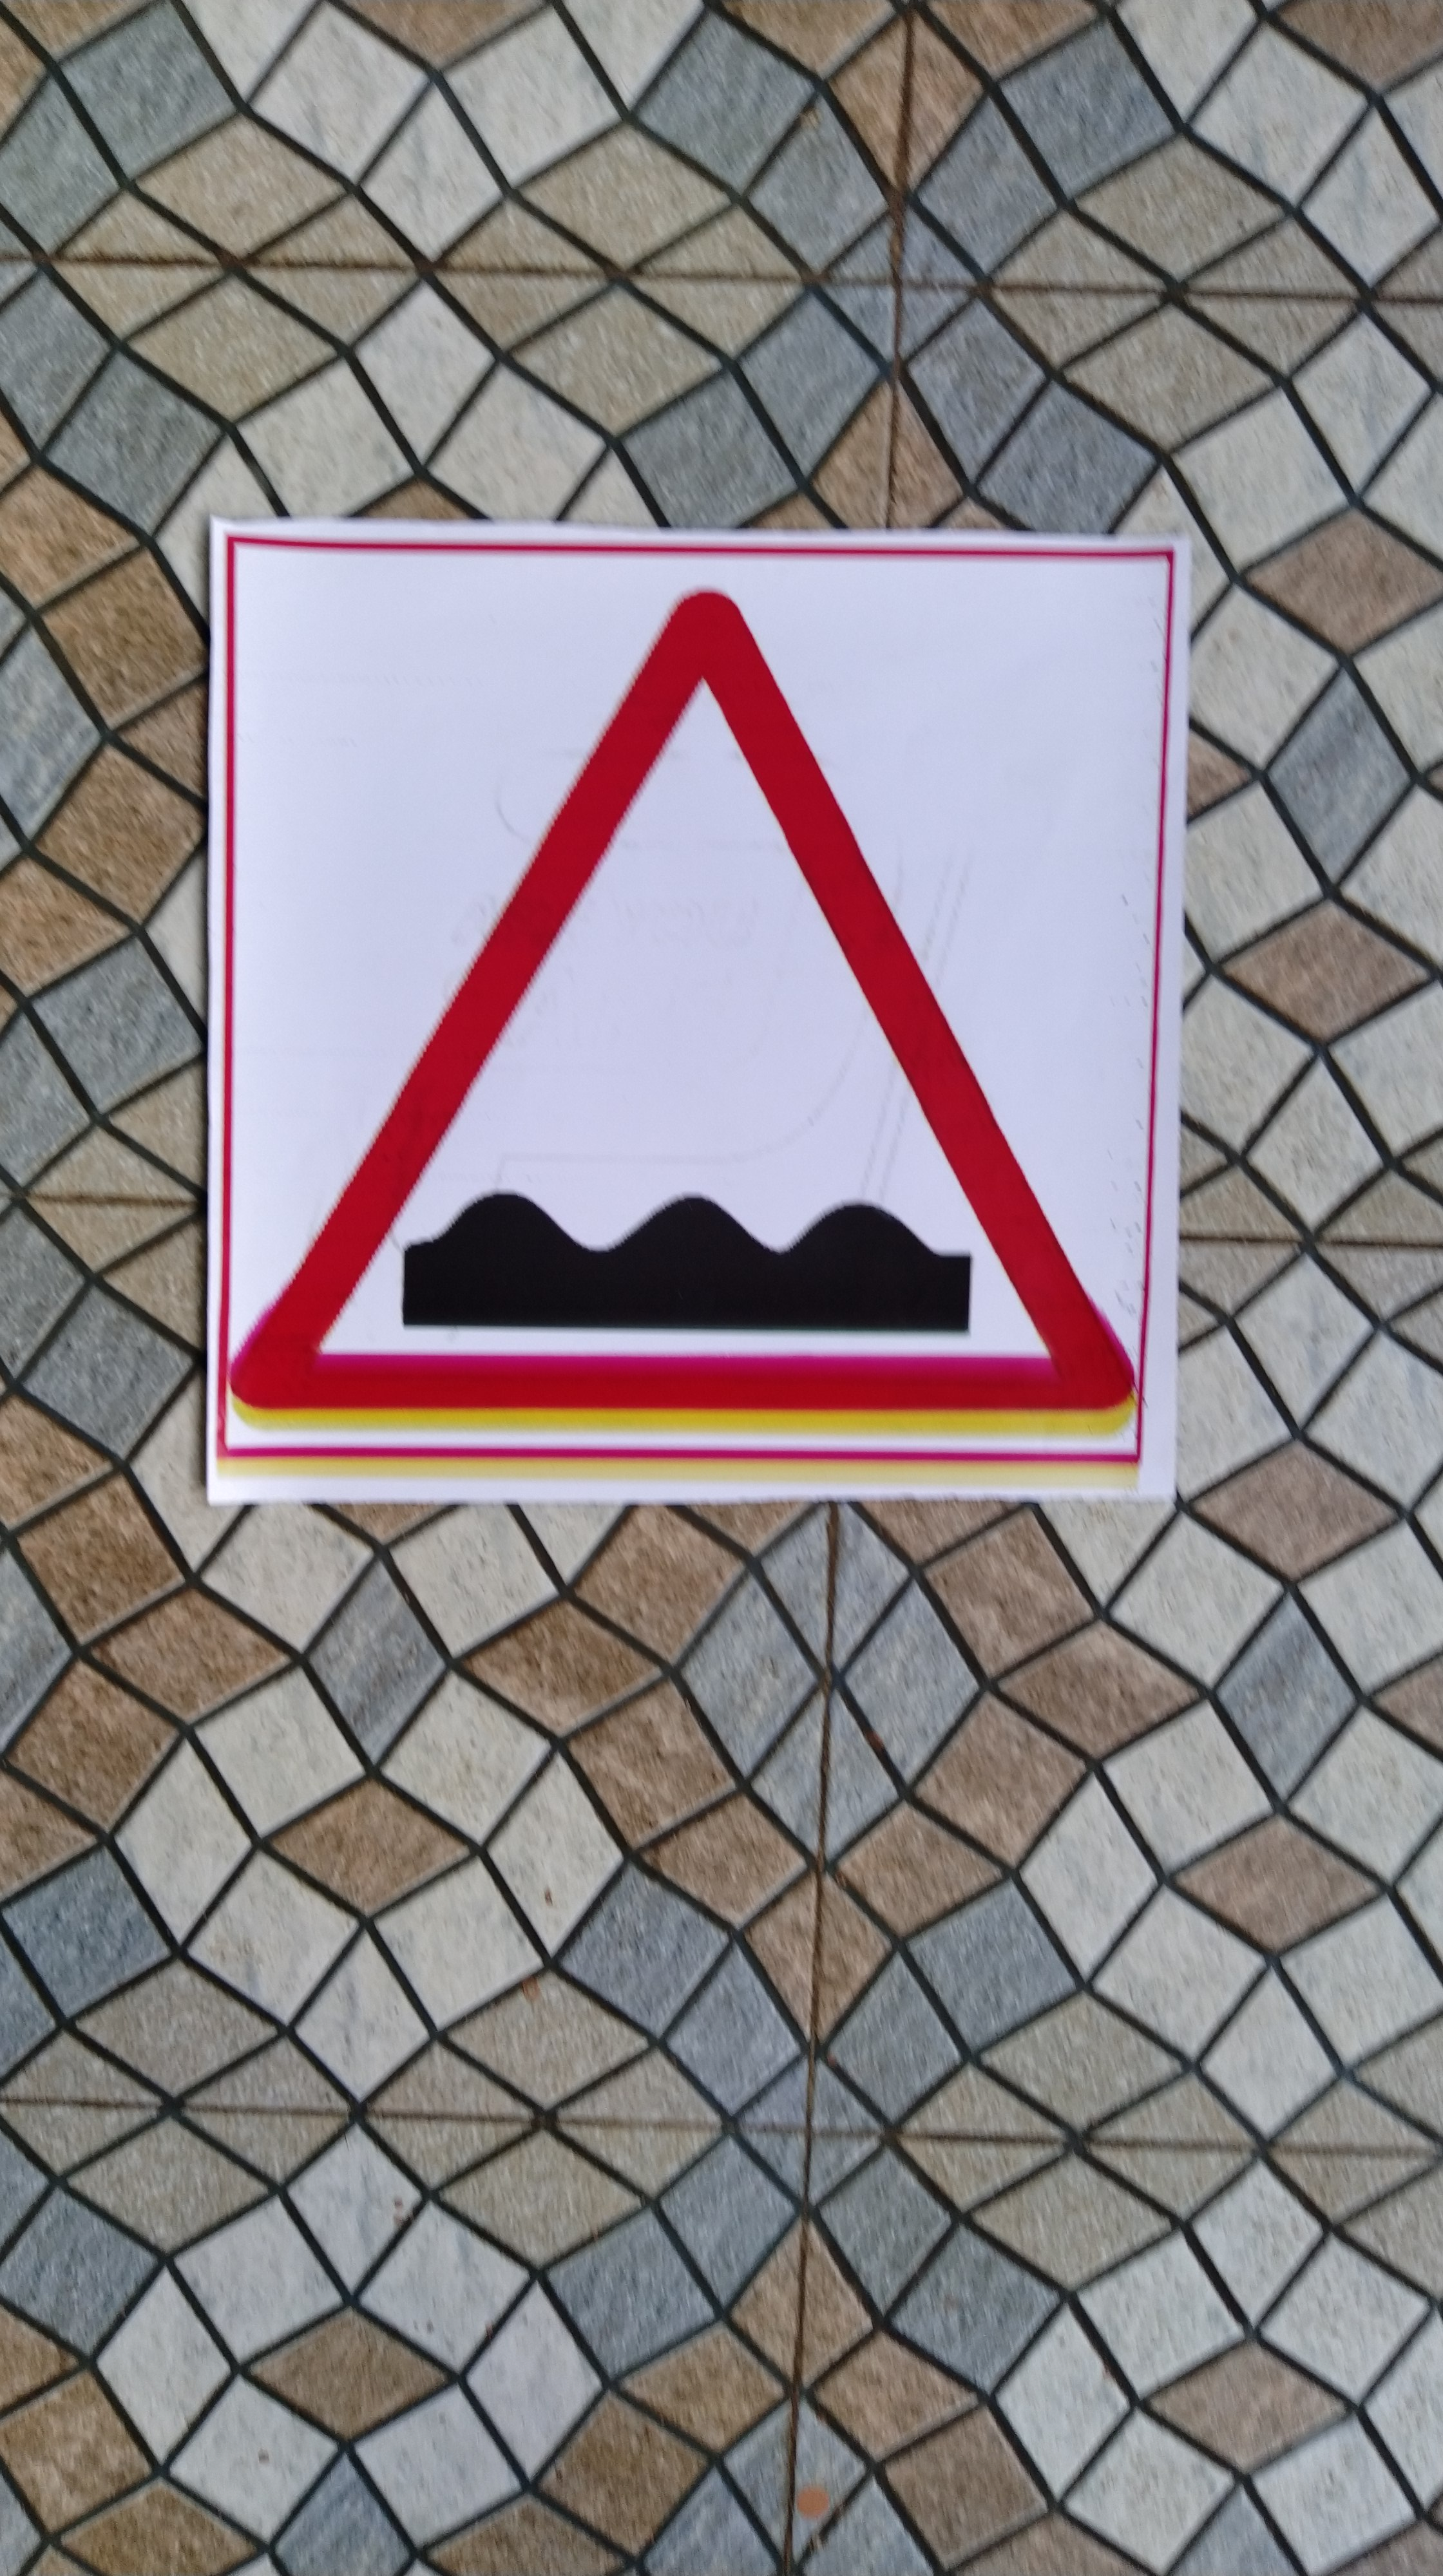speed breaker: (225, 529, 1174, 1486)
